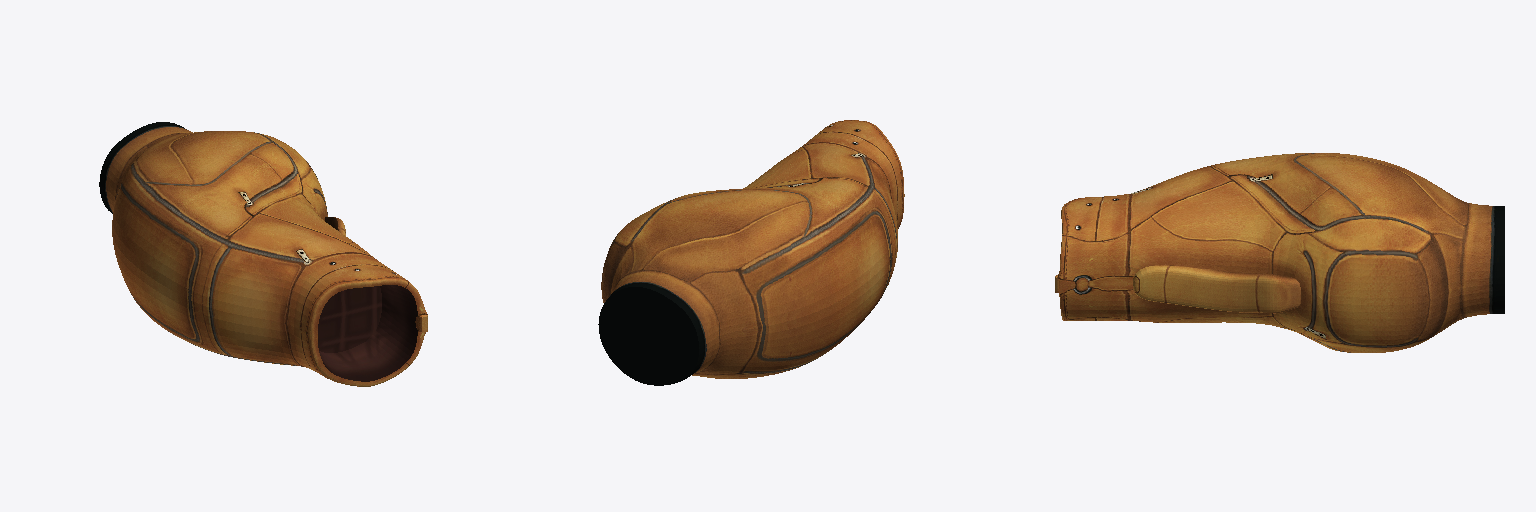
3 renders of one model, left to right at view 1: azimuth 30°, elevation 25°; view 2: azimuth 150°, elevation 25°; view 3: azimuth 270°, elevation 25°, orthographic.
Parts seen in each view (by area): view 1: 10506_golf_bag_v01; view 2: 10506_golf_bag_v01; view 3: 10506_golf_bag_v01.
Boxes of the visible parts, x1,y1,x2,y2 form: 10506_golf_bag_v01: [99, 122, 427, 386]; 10506_golf_bag_v01: [598, 120, 904, 385]; 10506_golf_bag_v01: [1055, 153, 1504, 352].
Bounding box in the file's own units: 51.8 × 40.5 × 100.
Materials: 1 (1 with a texture image).